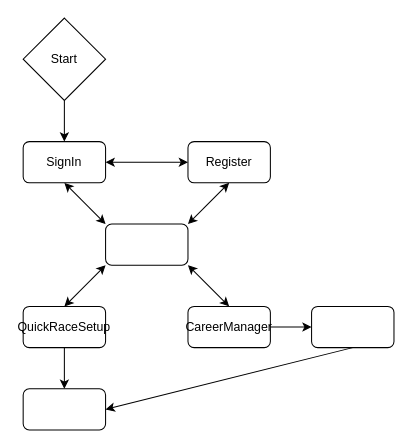
Some shapes in this 412 by 448 pixel diagram are drawn without their labels. Here are the shapes that lost their labels. From the top down, the centre of each, then its label:
At point 146,244: "NewGame".
At point 352,326: "CareerMenu".
At point 64,409: "Race".
